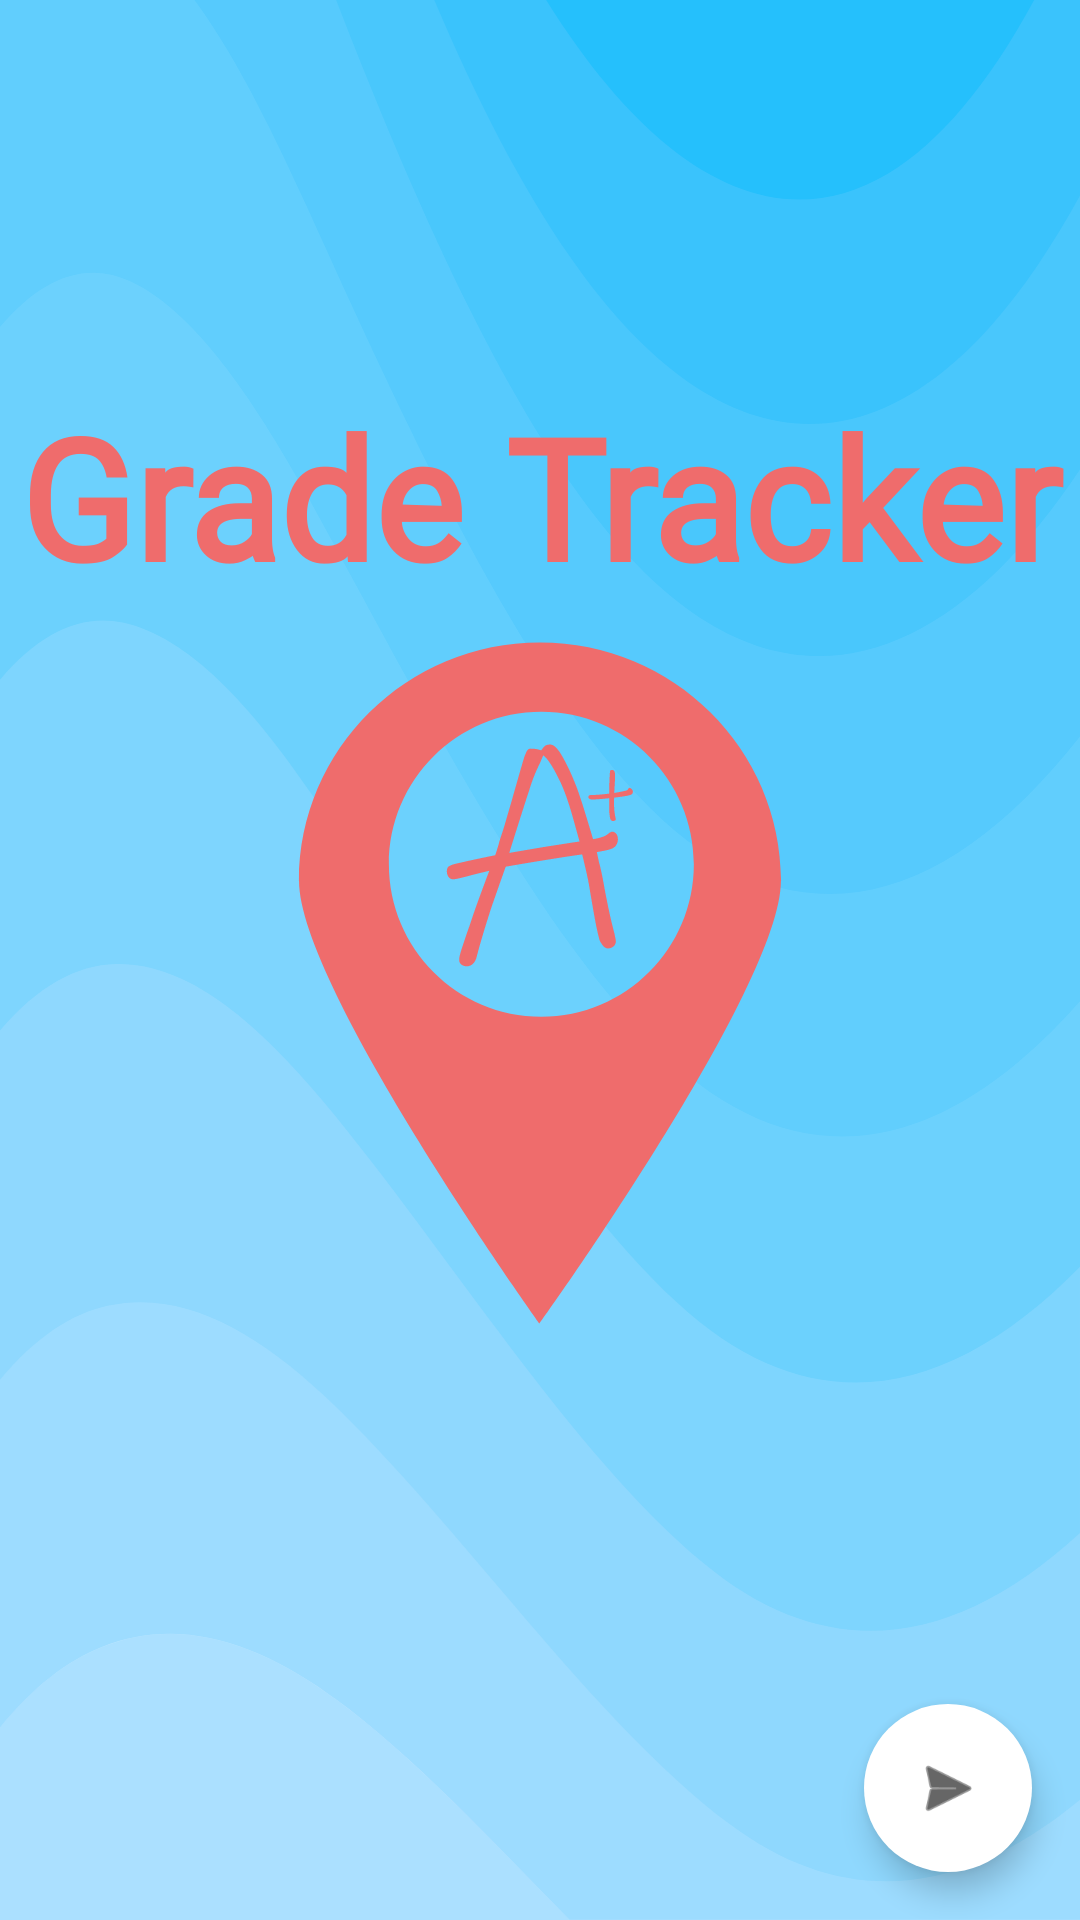

Icons on this 1080 x 1920 Android screen, each with the point to tap as (x,y):
Next: (948,1788)
